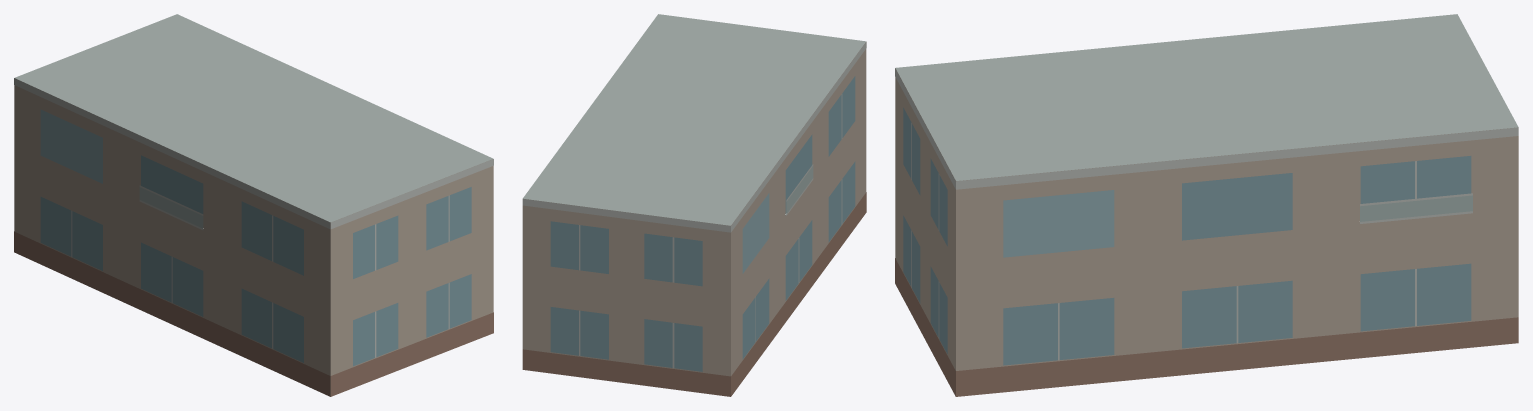
The model's file is survey-upis-32741154.glb.
3 views of the same model, side by side, from view 1: azimuth 30°, elevation 25°; view 2: azimuth 150°, elevation 25°; view 3: azimuth 270°, elevation 25° (orthographic). The views are drawn at different scales.
Visible parts, largest first — view 1: survey-upis-32741154.tmp; view 2: survey-upis-32741154.tmp; view 3: survey-upis-32741154.tmp.
Part boxes in pixels (box(x1,y1,x2,y2)): survey-upis-32741154.tmp: box(14, 14, 493, 396); survey-upis-32741154.tmp: box(522, 14, 866, 396); survey-upis-32741154.tmp: box(895, 14, 1518, 396).
Size of the model in its own units: 10.14 by 6.1 by 15.99.
